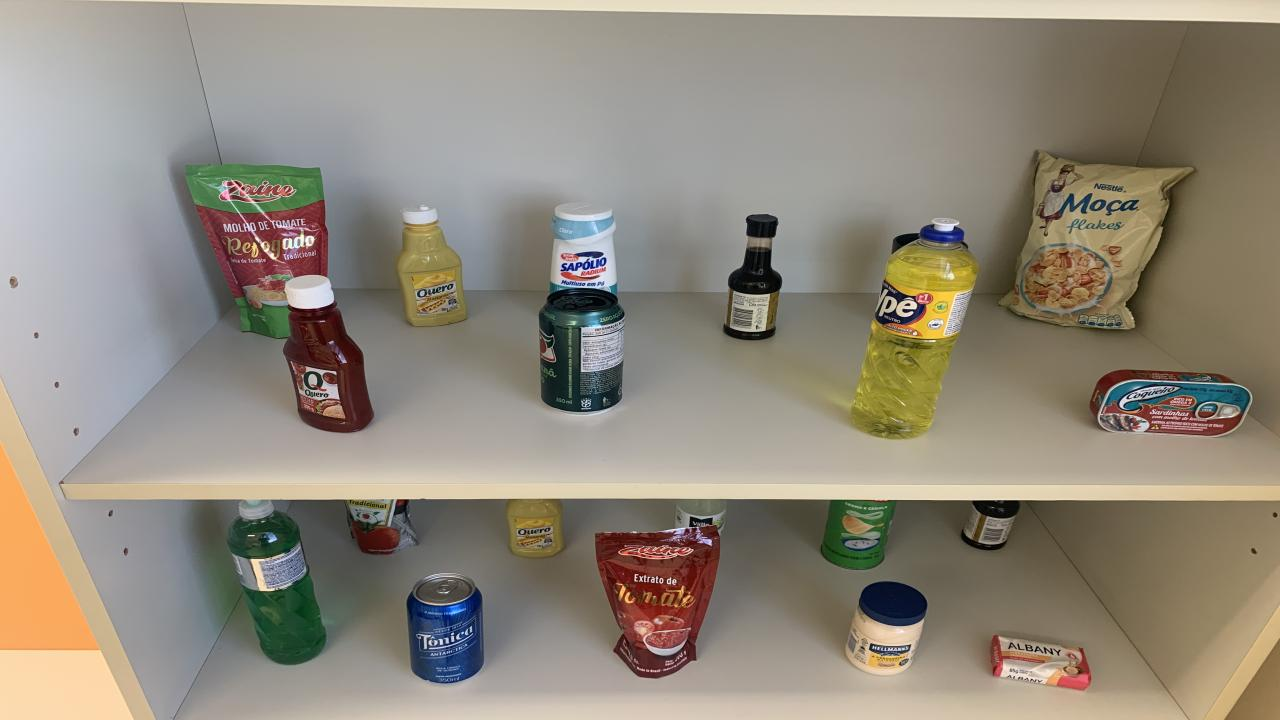Cleaner-Cleanup_Items: (550, 202, 618, 294)
Detergent-Cleanup_Items: (850, 218, 978, 439), (228, 501, 325, 664)
English_Sauce-Pantry_Items: (725, 214, 782, 339), (962, 501, 1020, 549)
Flakes-Snacks: (1000, 152, 1192, 330)
Guarana_Can-Drinks: (540, 289, 625, 414)
Ketchup-Pantry_Items: (282, 274, 372, 433)
Mayonnaise-Pantry_Items: (845, 581, 928, 675)
Mustard-Pantry_Items: (395, 204, 468, 326), (505, 499, 565, 557)
Pringles-Snacks: (820, 501, 895, 570)
Soap-Cleanup_Items: (990, 636, 1090, 690)
Soda-Drinks: (675, 499, 728, 532)
Tomato_Sauce-Pantry_Items: (185, 165, 328, 338), (595, 527, 720, 679), (345, 499, 418, 555)
Tonic-Drinks: (408, 572, 485, 682)
Tuna_Can-Pantry_Items: (1090, 369, 1252, 437)
